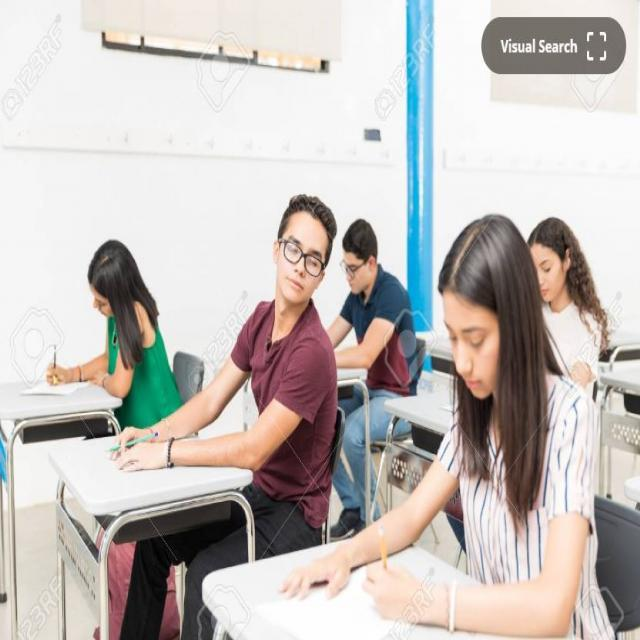cheating: (172, 177, 355, 484)
good: (406, 197, 603, 640)
